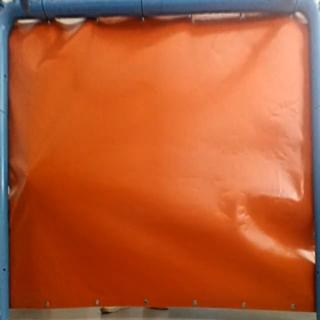Hit-hRxx: (21, 167, 35, 187)
